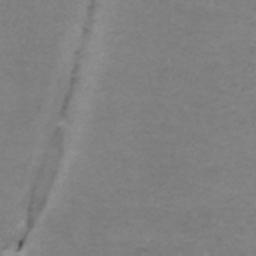Finishing roll printing: (15, 127, 65, 251), (55, 0, 96, 119)
